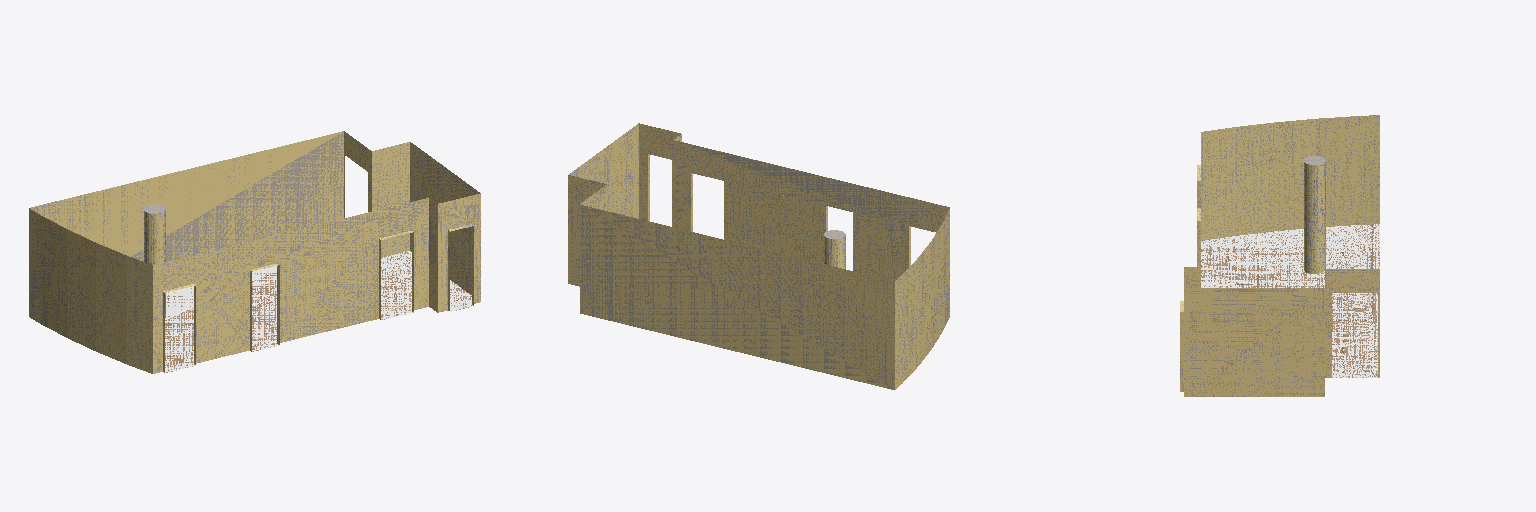
3 views of the same model, side by side, from view 1: azimuth 30°, elevation 25°; view 2: azimuth 150°, elevation 25°; view 3: azimuth 270°, elevation 25° (orthographic).
Parts seen in each view (by area): view 1: Mesh4 LAB020 Model, Mesh1 Group1 LAB020 Model; view 2: Mesh4 LAB020 Model, Mesh1 Group1 LAB020 Model; view 3: Mesh4 LAB020 Model, Mesh1 Group1 LAB020 Model.
Boxes of the visible parts, box(x1,y1,x2,y2) form: Mesh4 LAB020 Model: box(29, 131, 480, 373); Mesh1 Group1 LAB020 Model: box(144, 205, 165, 317); Mesh4 LAB020 Model: box(568, 123, 949, 389); Mesh1 Group1 LAB020 Model: box(824, 230, 845, 268); Mesh4 LAB020 Model: box(1180, 115, 1379, 396); Mesh1 Group1 LAB020 Model: box(1304, 156, 1325, 273).
Bounding box in the file's own units: 10.11 × 2.98 × 4.96.
5 materials, 1 textured.